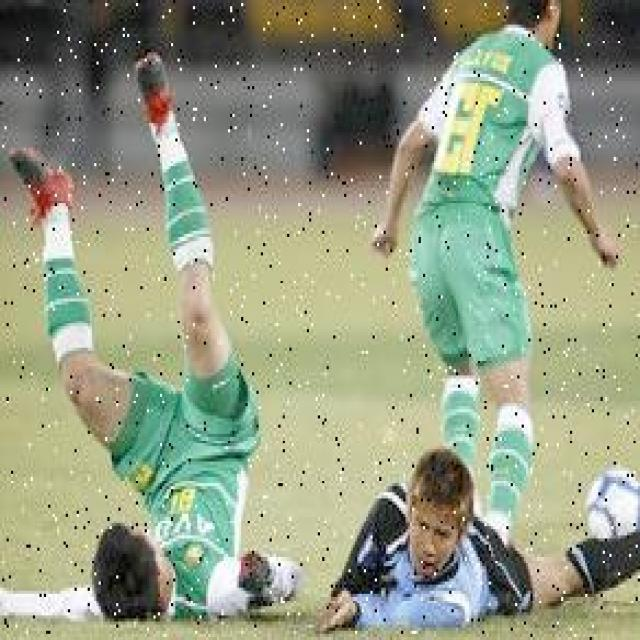fall: (37, 264, 265, 618), (329, 449, 633, 622)
